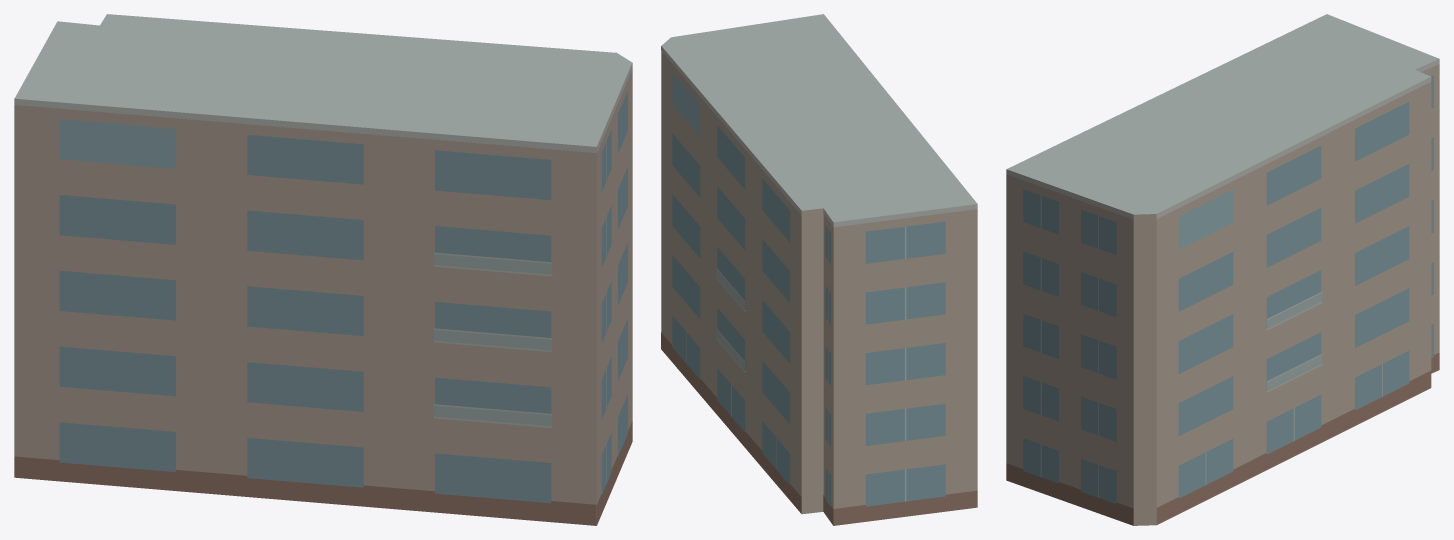
Rendered from survey-upis-32901553.glb.
The picture shows the model from 3 angles, left to right: view 1: azimuth 30°, elevation 25°; view 2: azimuth 150°, elevation 25°; view 3: azimuth 270°, elevation 25°; orthographic projection. The views are drawn at different scales.
Visible parts, largest first — view 1: survey-upis-32901553.tmp; view 2: survey-upis-32901553.tmp; view 3: survey-upis-32901553.tmp.
Boxes of the visible parts, box(x1,y1,x2,y2) form: survey-upis-32901553.tmp: box(14, 14, 632, 525); survey-upis-32901553.tmp: box(661, 14, 977, 525); survey-upis-32901553.tmp: box(1006, 14, 1439, 525).
Size of the model in its own units: 20.53 by 14.85 by 18.73.
